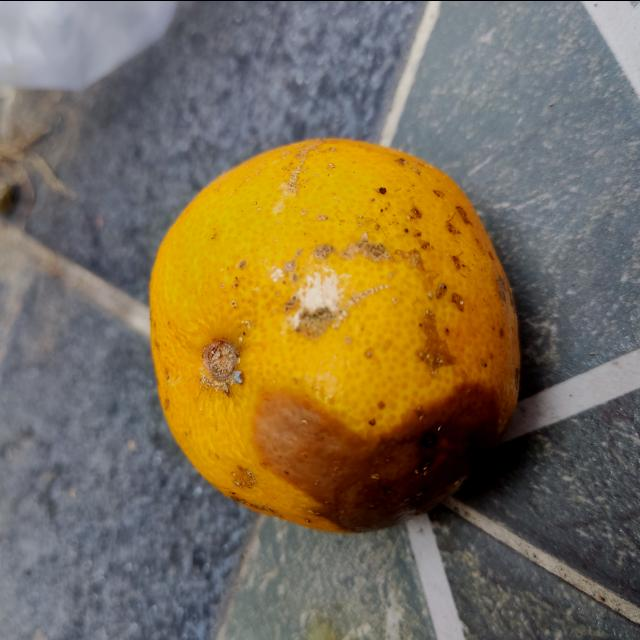orange: (148, 136, 522, 531)
